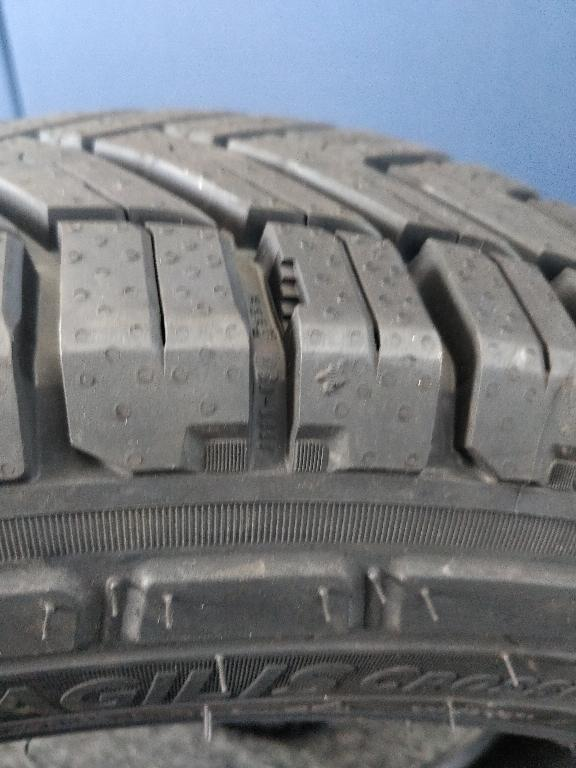temoin:100: (263, 247, 313, 340)
